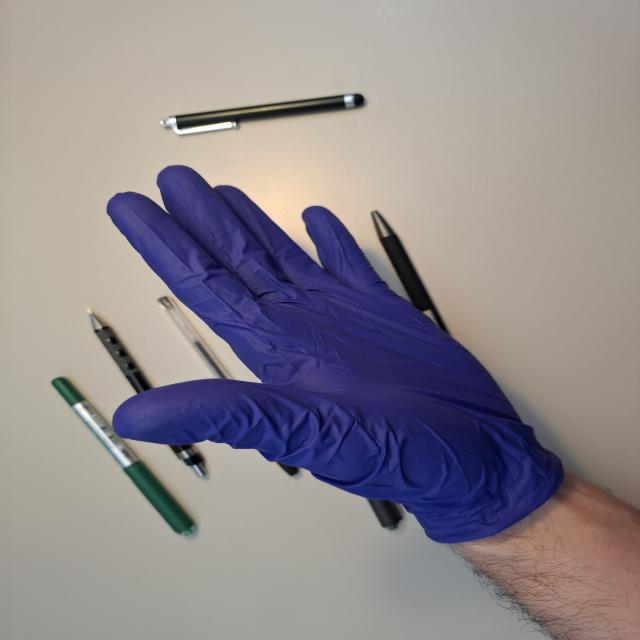glove_on: (103, 163, 564, 553)
